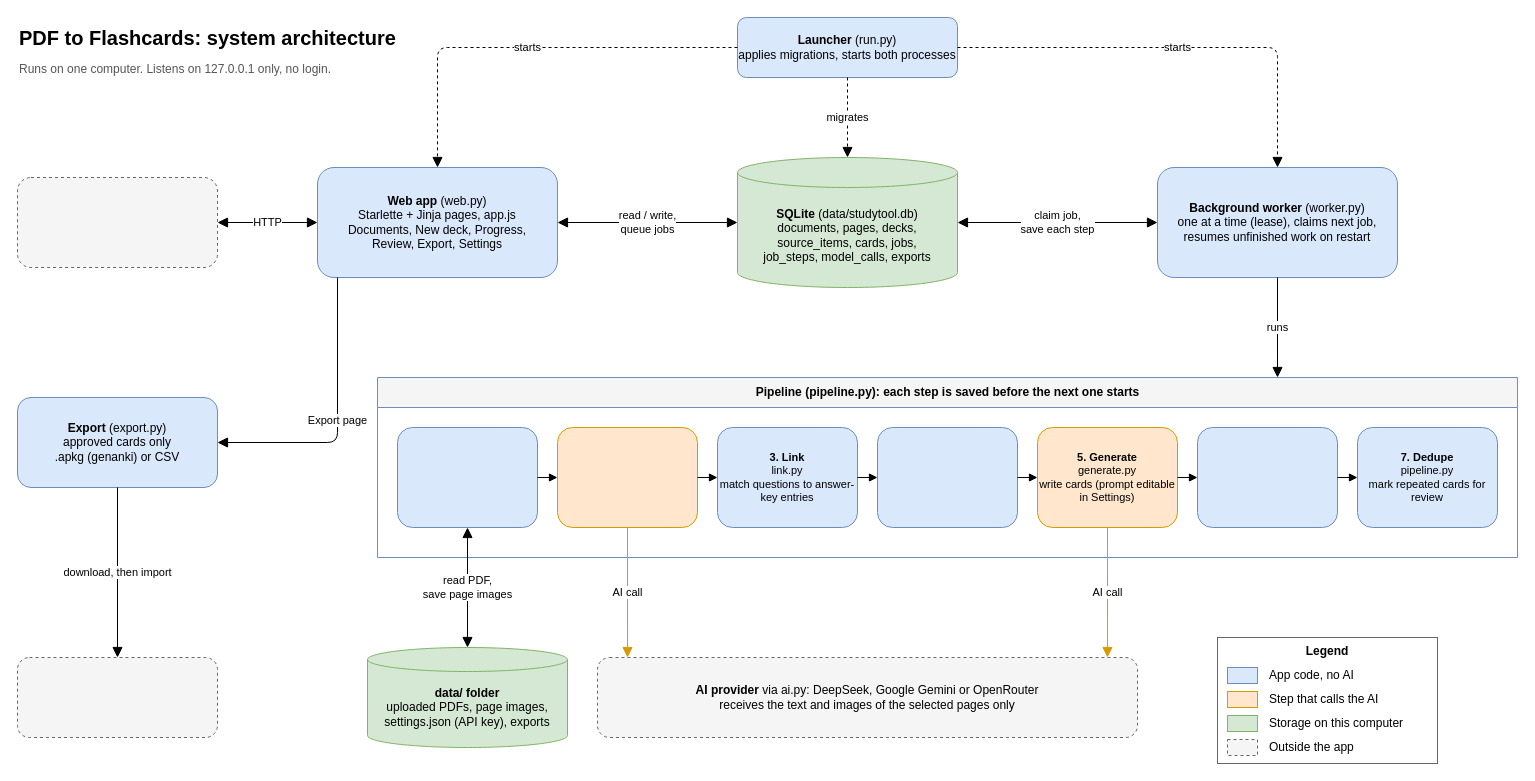
Image size: 1535x781. Some labels were removed from this diagram. Here are the shapes that lost their labels. From the top down, the centre of each, then its label:
point (117, 222): You web browser (desktop or phone)
point (467, 477): 1. Extract extract.py page text + images (PyMuPDF)
point (627, 477): 2. Segment segment.py split each page into questions and info boxes
point (947, 477): 4. Normalize normalize.py decode answer codes into checked facts
point (1267, 477): 6. Validate validate.py flag cards that need a closer look
point (117, 697): Anki Basic notes, one deck per export
